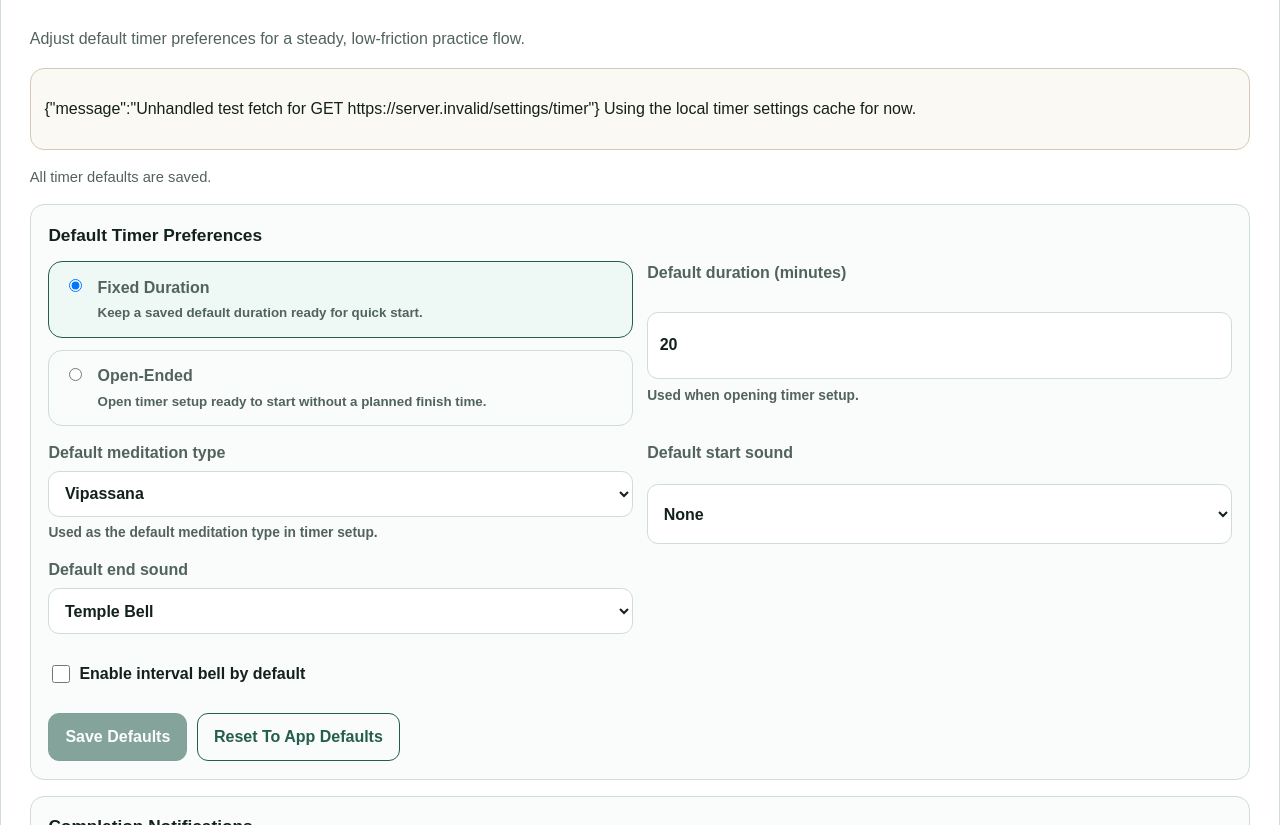
Test: SettingsPage UX › blocks persistence when draft defaults are invalid
Expected: the number field labelled "Default duration (minutes) Used when opening timer setup." is enabled, [647, 312, 1232, 379]
Click the checkbox labelled "Enable interval bell by default" at {"x": 61, "y": 674}, box [52, 651, 70, 697]
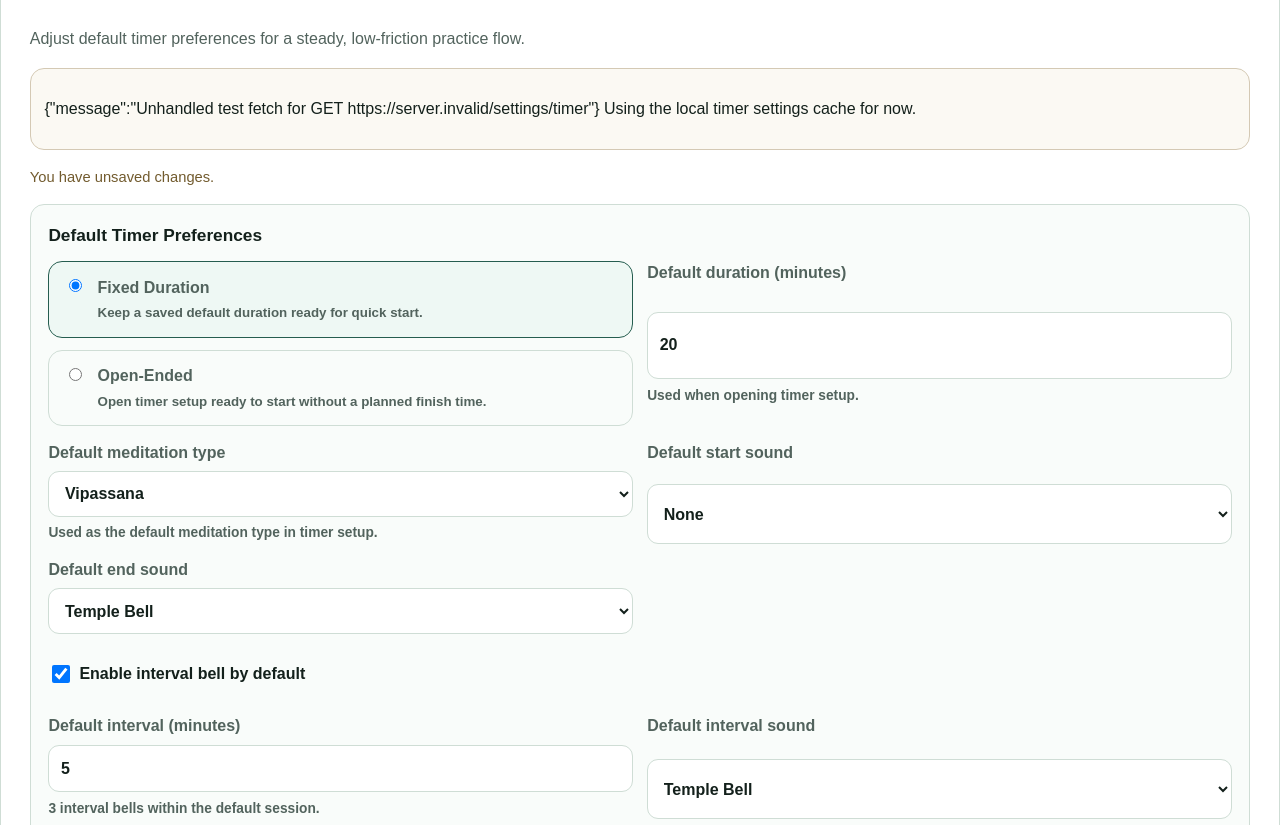
Replace the text in the number field labelled "Default interval (minutes)" with "20" at {"x": 341, "y": 769}, box [48, 745, 633, 792]
(page scrolled)
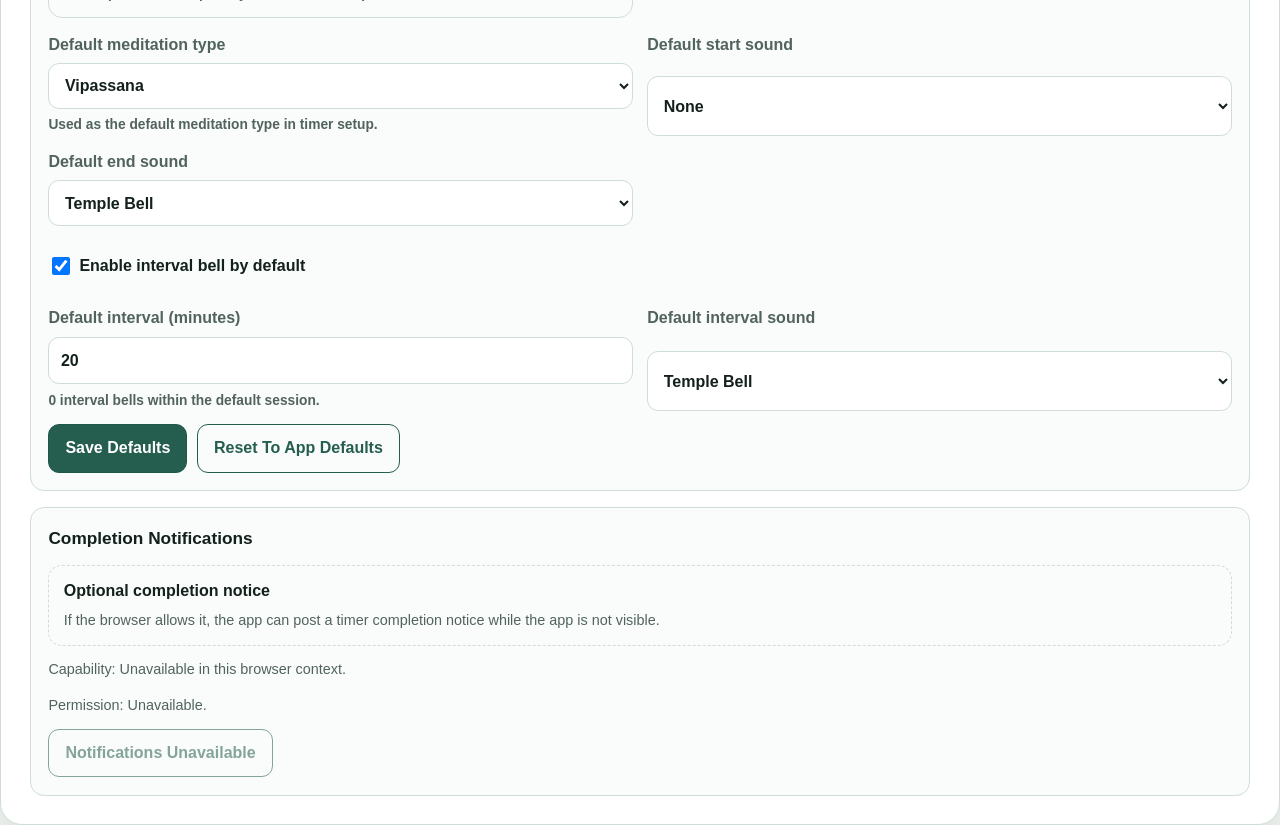
Click the button "Save Defaults" at {"x": 118, "y": 448}, box [48, 424, 187, 473]
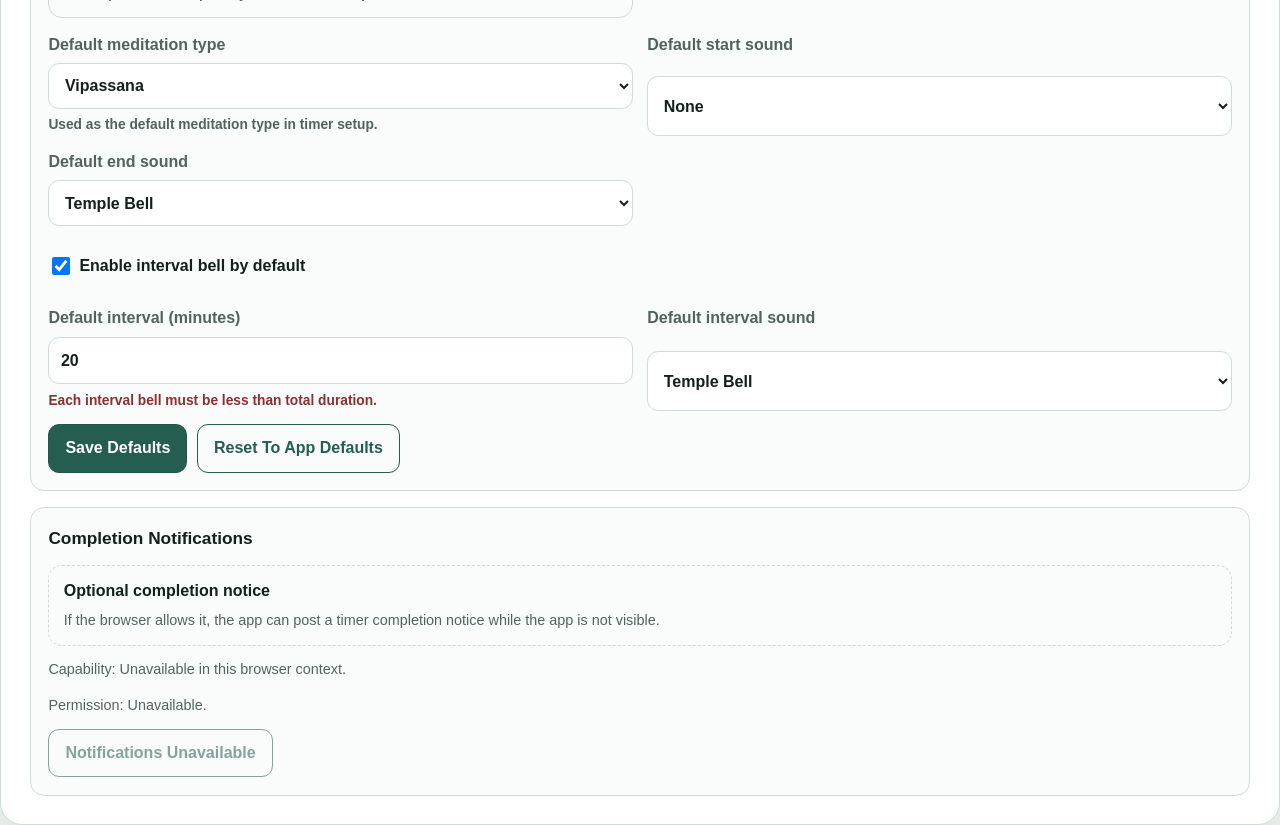
Result: the text "Each interval bell must be less than total duration." is shown at [48, 393, 377, 408]
